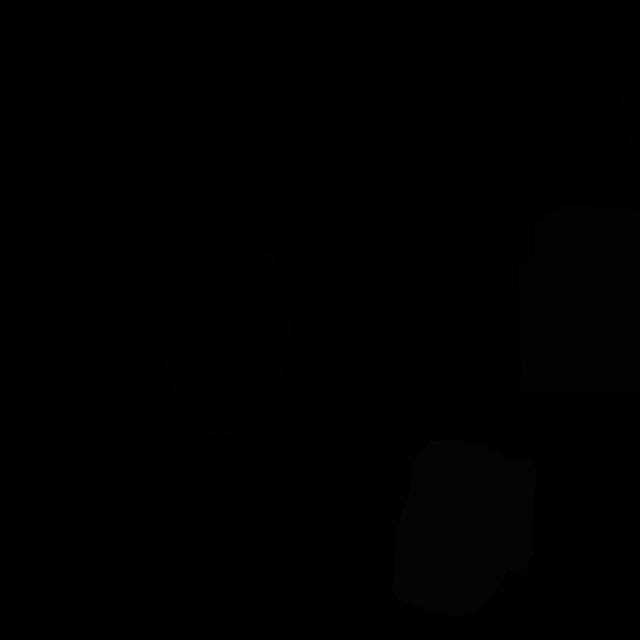cardboard: (517, 203, 640, 393)
rigid_plastic: (156, 244, 293, 439), (612, 34, 640, 159)
soft_plastic: (392, 439, 537, 618)
